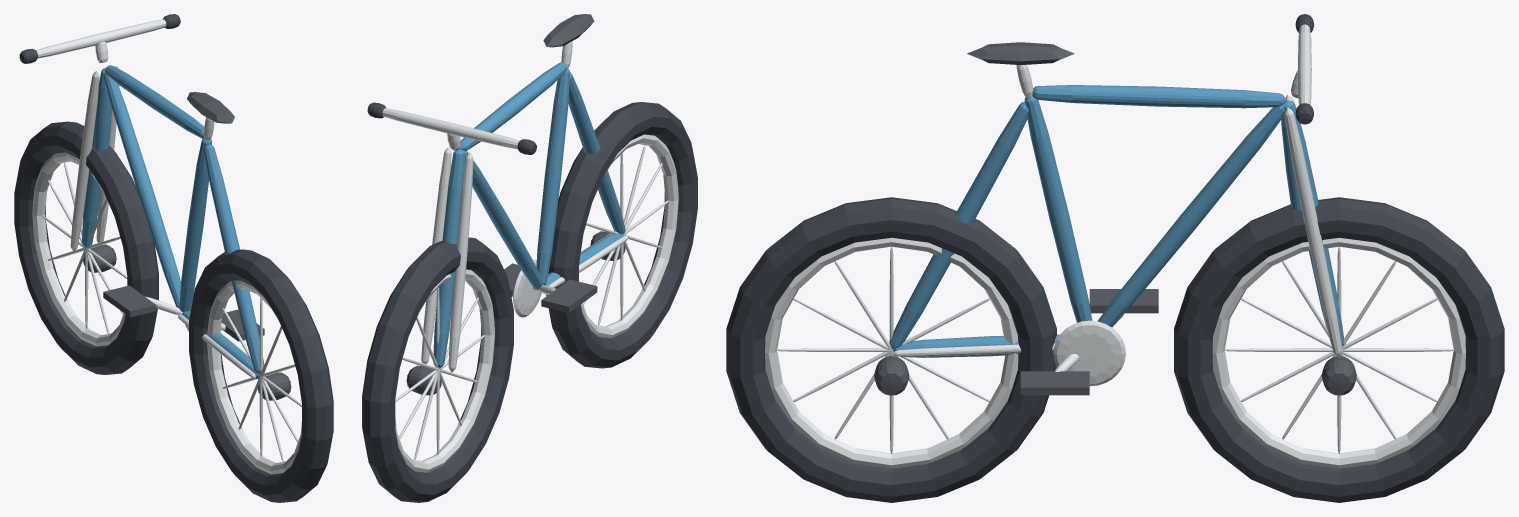
File: bicycle.glb
3 views of the same model, side by side, from view 1: azimuth 30°, elevation 25°; view 2: azimuth 150°, elevation 25°; view 3: azimuth 270°, elevation 25° (orthographic). The views are drawn at different scales.
Parts seen in each view (by area): view 1: Bicicleta, BikeWheelR, BikeWheelF; view 2: Bicicleta, BikeWheelF, BikeWheelR; view 3: BikeWheelF, BikeWheelR, Bicicleta.
Part boxes in pixels (bbox=[...]): Bicicleta: bbox=[19, 14, 266, 378]; BikeWheelR: bbox=[189, 249, 333, 502]; BikeWheelF: bbox=[14, 121, 158, 374]; Bicicleta: bbox=[367, 14, 628, 372]; BikeWheelF: bbox=[362, 237, 513, 502]; BikeWheelR: bbox=[546, 102, 697, 368]; BikeWheelF: bbox=[1174, 197, 1504, 502]; BikeWheelR: bbox=[726, 197, 1056, 502]; Bicicleta: bbox=[889, 14, 1344, 395].
Bounding box in the file's own units: 0.54 × 1.17 × 1.81.
